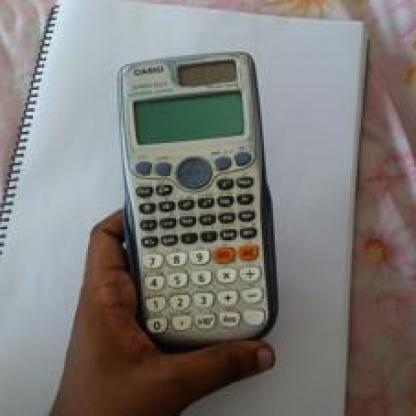calculator: (106, 48, 299, 352)
